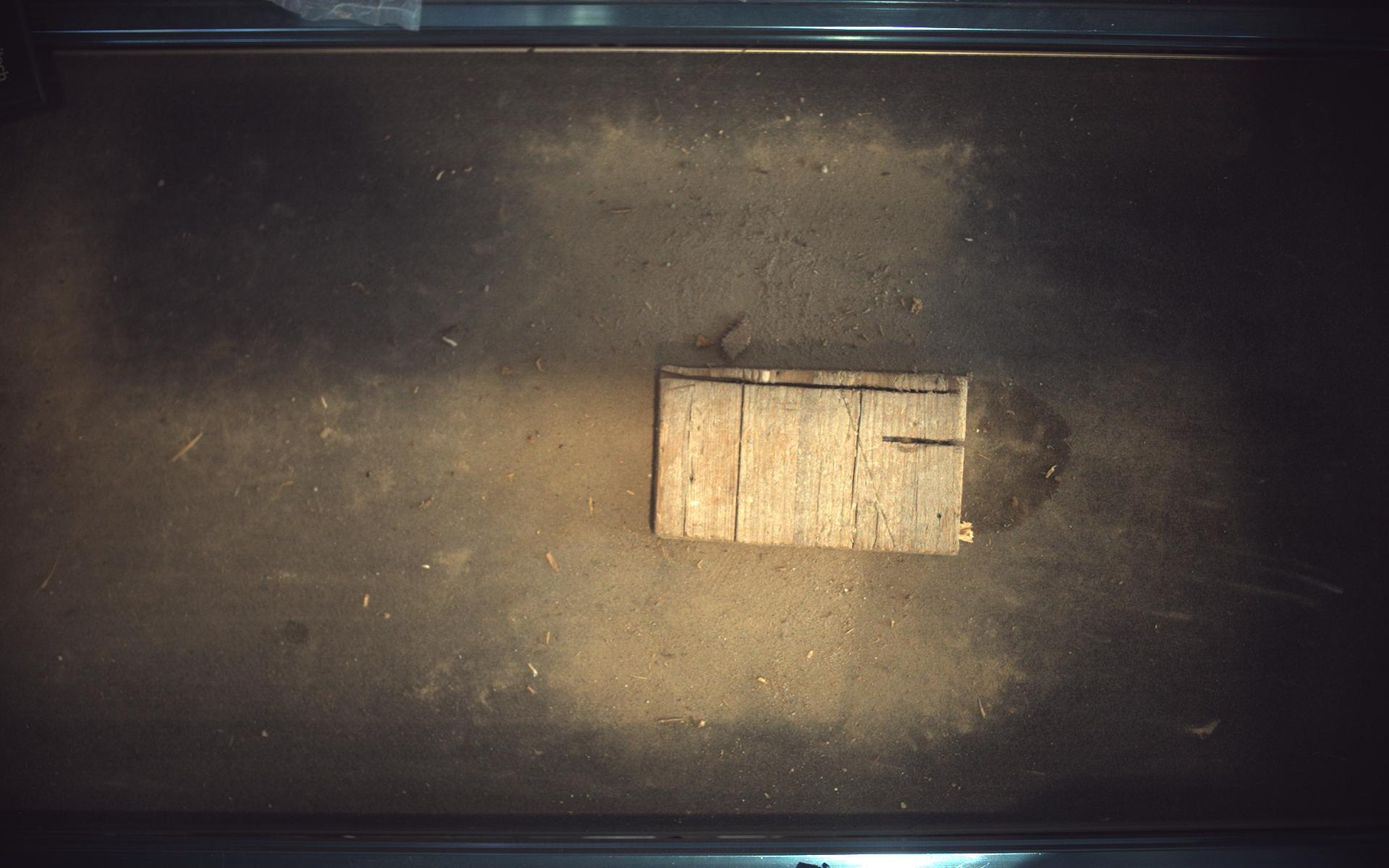wood: (655, 367, 970, 555)
